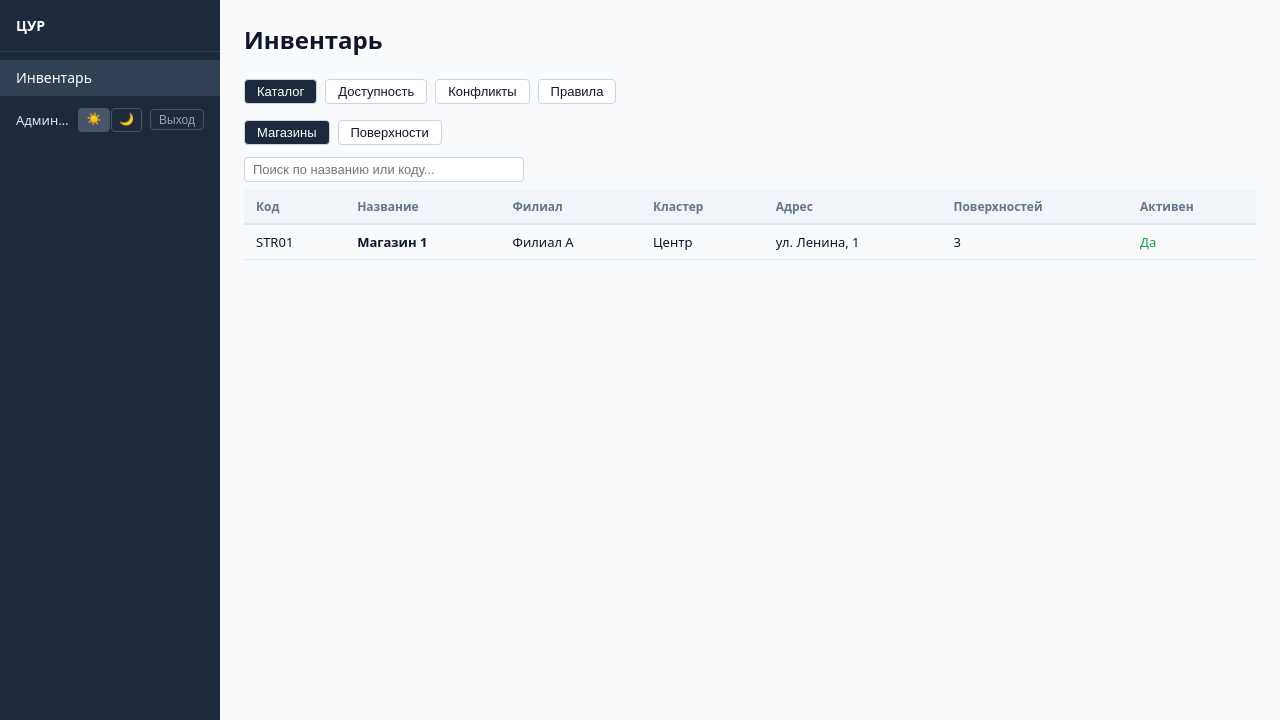
Test: InventoryPage — S-081 tabs › switches to availability tab on click
Step 1. Click the button "Доступность" → [376, 92], box [325, 79, 427, 104]
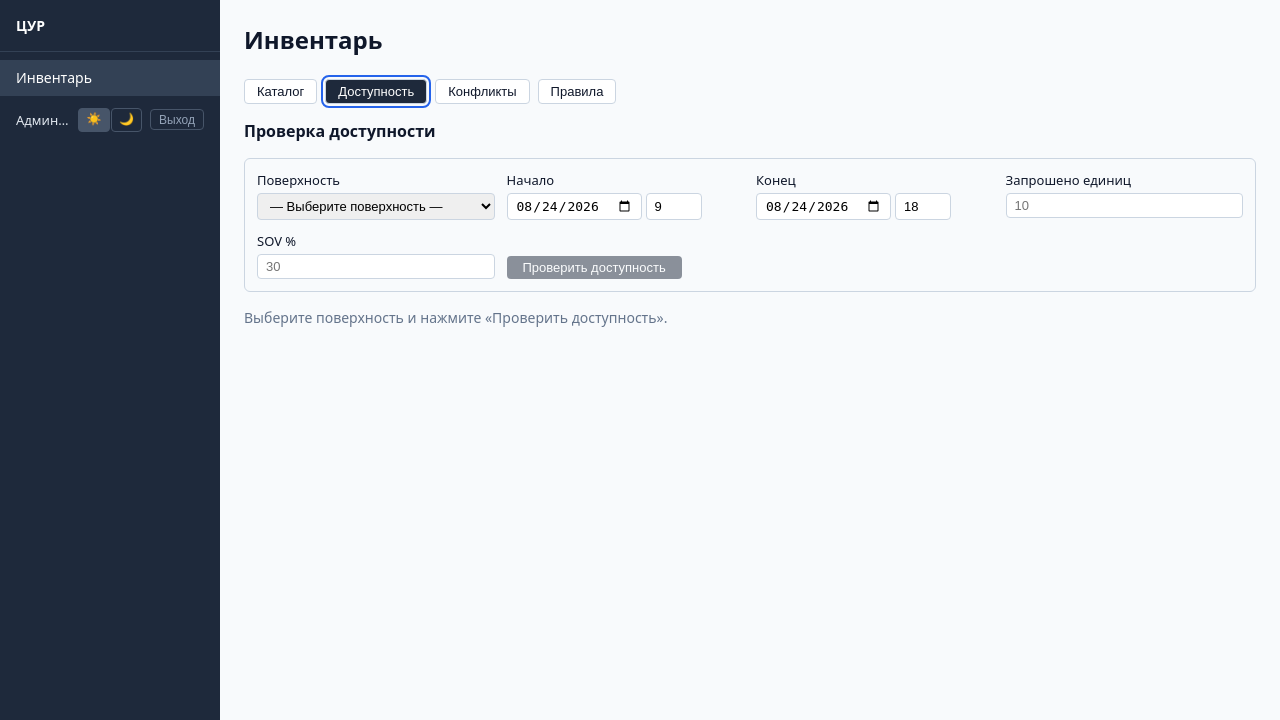
Expected: the heading "Проверка доступности" is shown, [244, 120, 436, 142]
